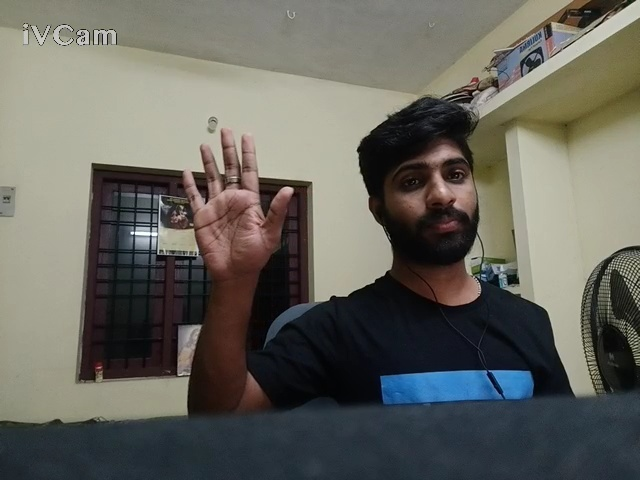Hello: (161, 118, 310, 293)
